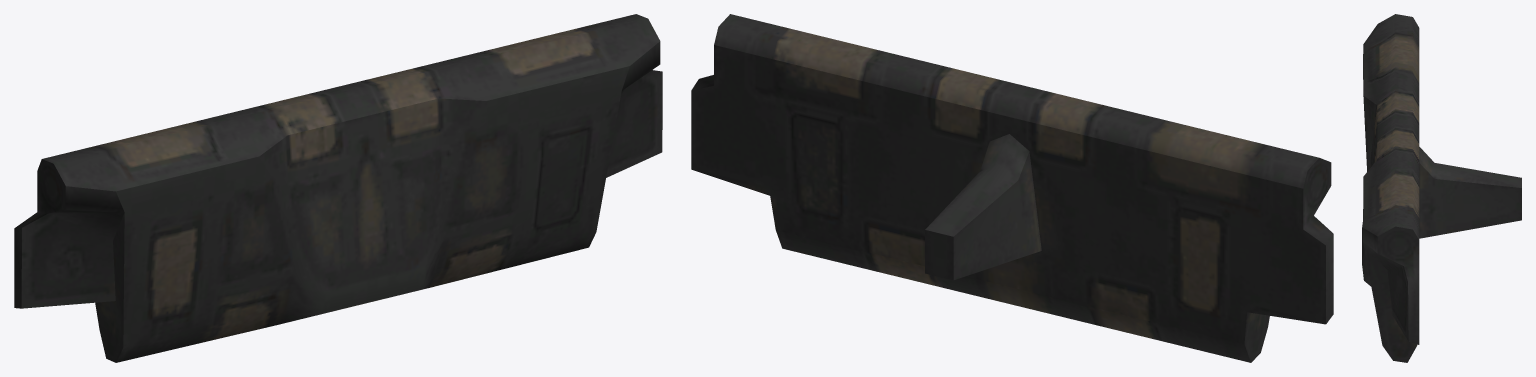
The picture shows the model from 3 angles, left to right: view 1: azimuth 30°, elevation 25°; view 2: azimuth 150°, elevation 25°; view 3: azimuth 270°, elevation 25°; orthographic projection. The views are drawn at different scales.
Visible parts, largest first — view 1: set_0_group_0; view 2: set_0_group_0; view 3: set_0_group_0.
Part boxes in pixels (x1,y1,x2,y2): set_0_group_0: (14, 14, 662, 362); set_0_group_0: (691, 14, 1333, 362); set_0_group_0: (1362, 14, 1521, 362).
Bounding box in the file's own units: 0.6508 × 0.2095 × 0.192.
Materials: 1 (1 with a texture image).
